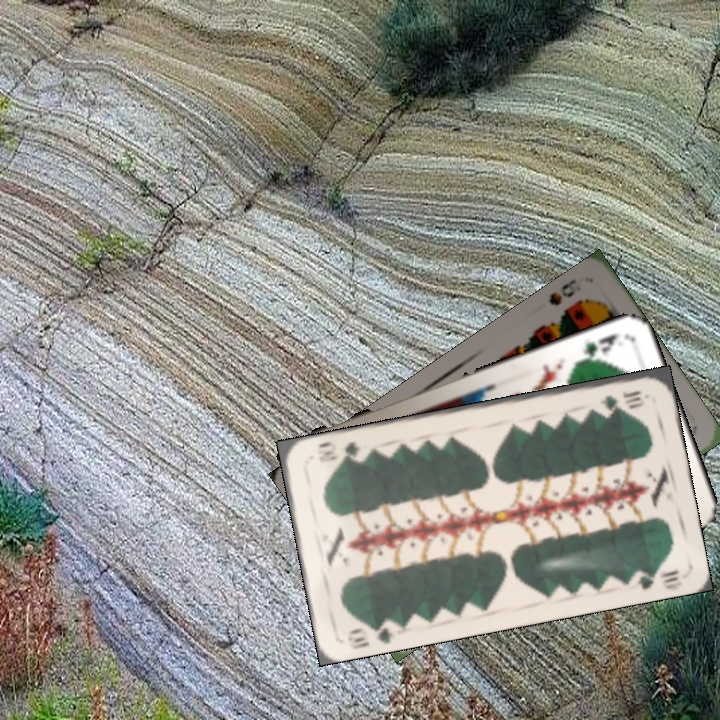G10: (344, 616, 398, 651), (596, 386, 645, 412)
GK: (574, 330, 621, 366)
S8: (545, 274, 579, 309)
